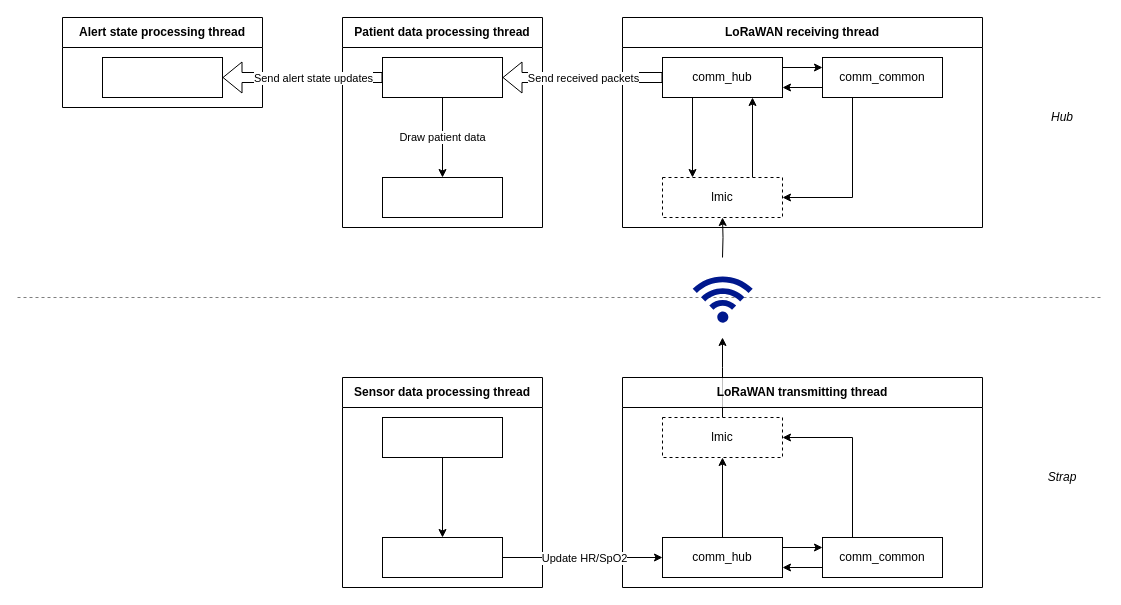
Some shapes in this 1121 by 605 pixel diagram are drawn without their labels. The centre of each missing label's shape, as x and y in pixels:
"alert" belongs at (162,77).
"hub (main)" belongs at (442,77).
"max30102" belongs at (442,437).
"monitor" belongs at (442,197).
"strap (main)" belongs at (442,557).
